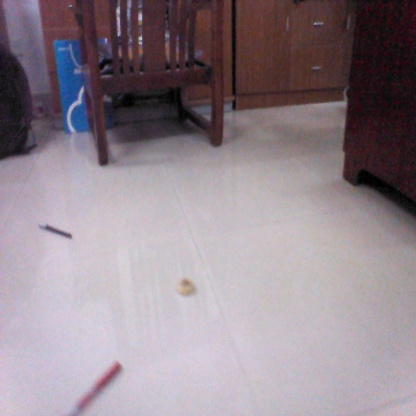chess: (177, 277, 199, 296)
pen: (70, 361, 124, 415), (38, 225, 75, 242)
